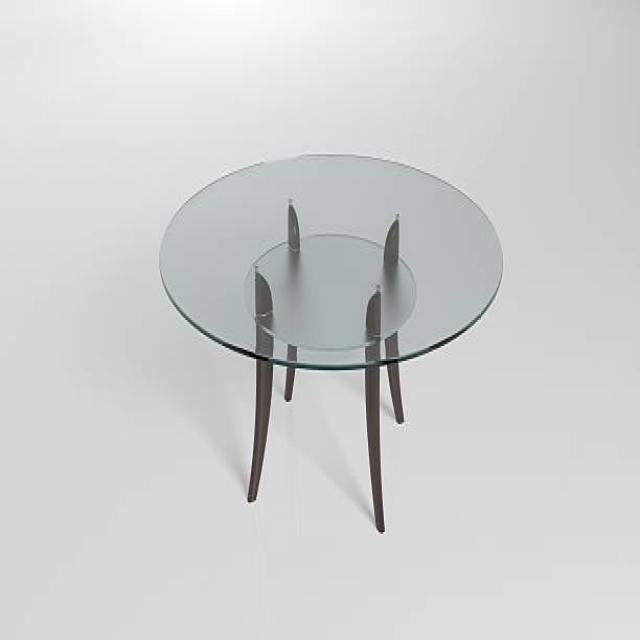table: (158, 150, 503, 532)
